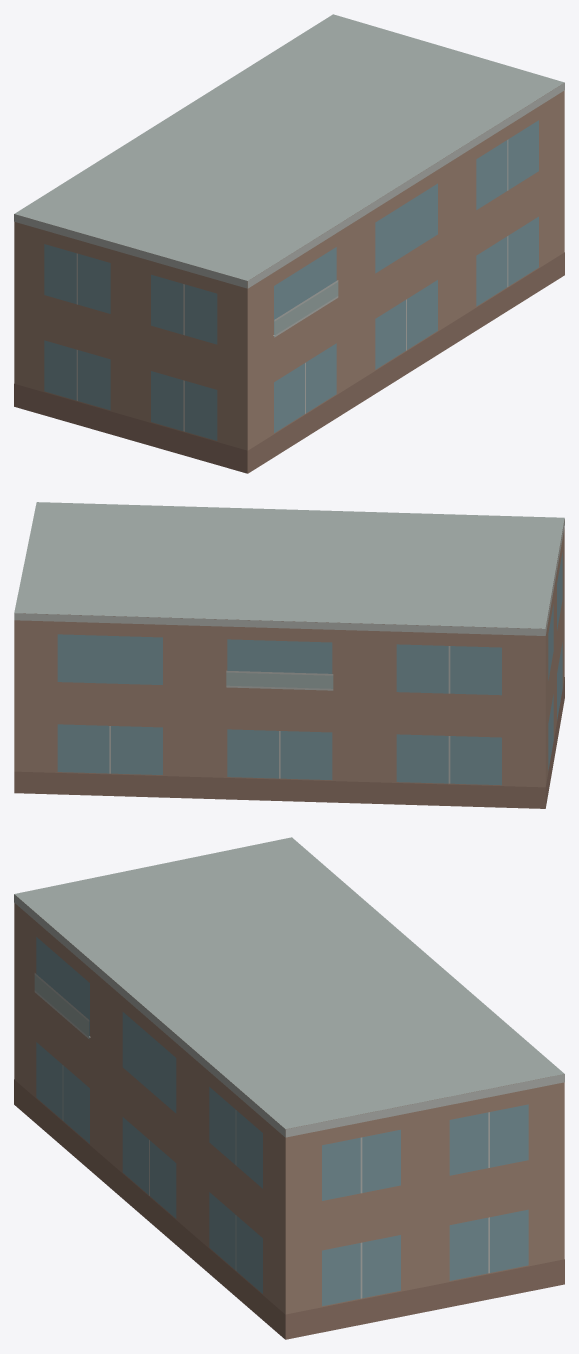
The model's file is survey-upis-32912449.glb.
The picture shows the model from 3 angles, top to bottom: view 1: azimuth 30°, elevation 25°; view 2: azimuth 150°, elevation 25°; view 3: azimuth 270°, elevation 25°; orthographic projection. The views are drawn at different scales.
Visible parts, largest first — view 1: survey-upis-32912449.tmp; view 2: survey-upis-32912449.tmp; view 3: survey-upis-32912449.tmp.
Boxes of the visible parts, bbox=[...] form: survey-upis-32912449.tmp: bbox=[14, 14, 564, 473]; survey-upis-32912449.tmp: bbox=[14, 502, 564, 808]; survey-upis-32912449.tmp: bbox=[14, 837, 564, 1339].
Size of the model in its own units: 18.16 by 6.1 by 14.47.
